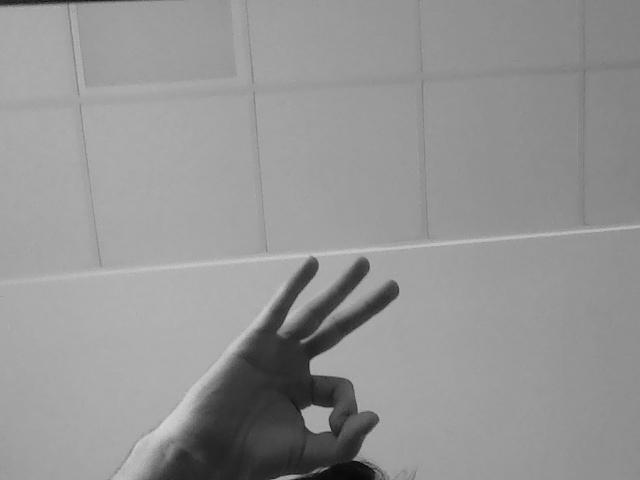OK: (225, 250, 423, 470)
